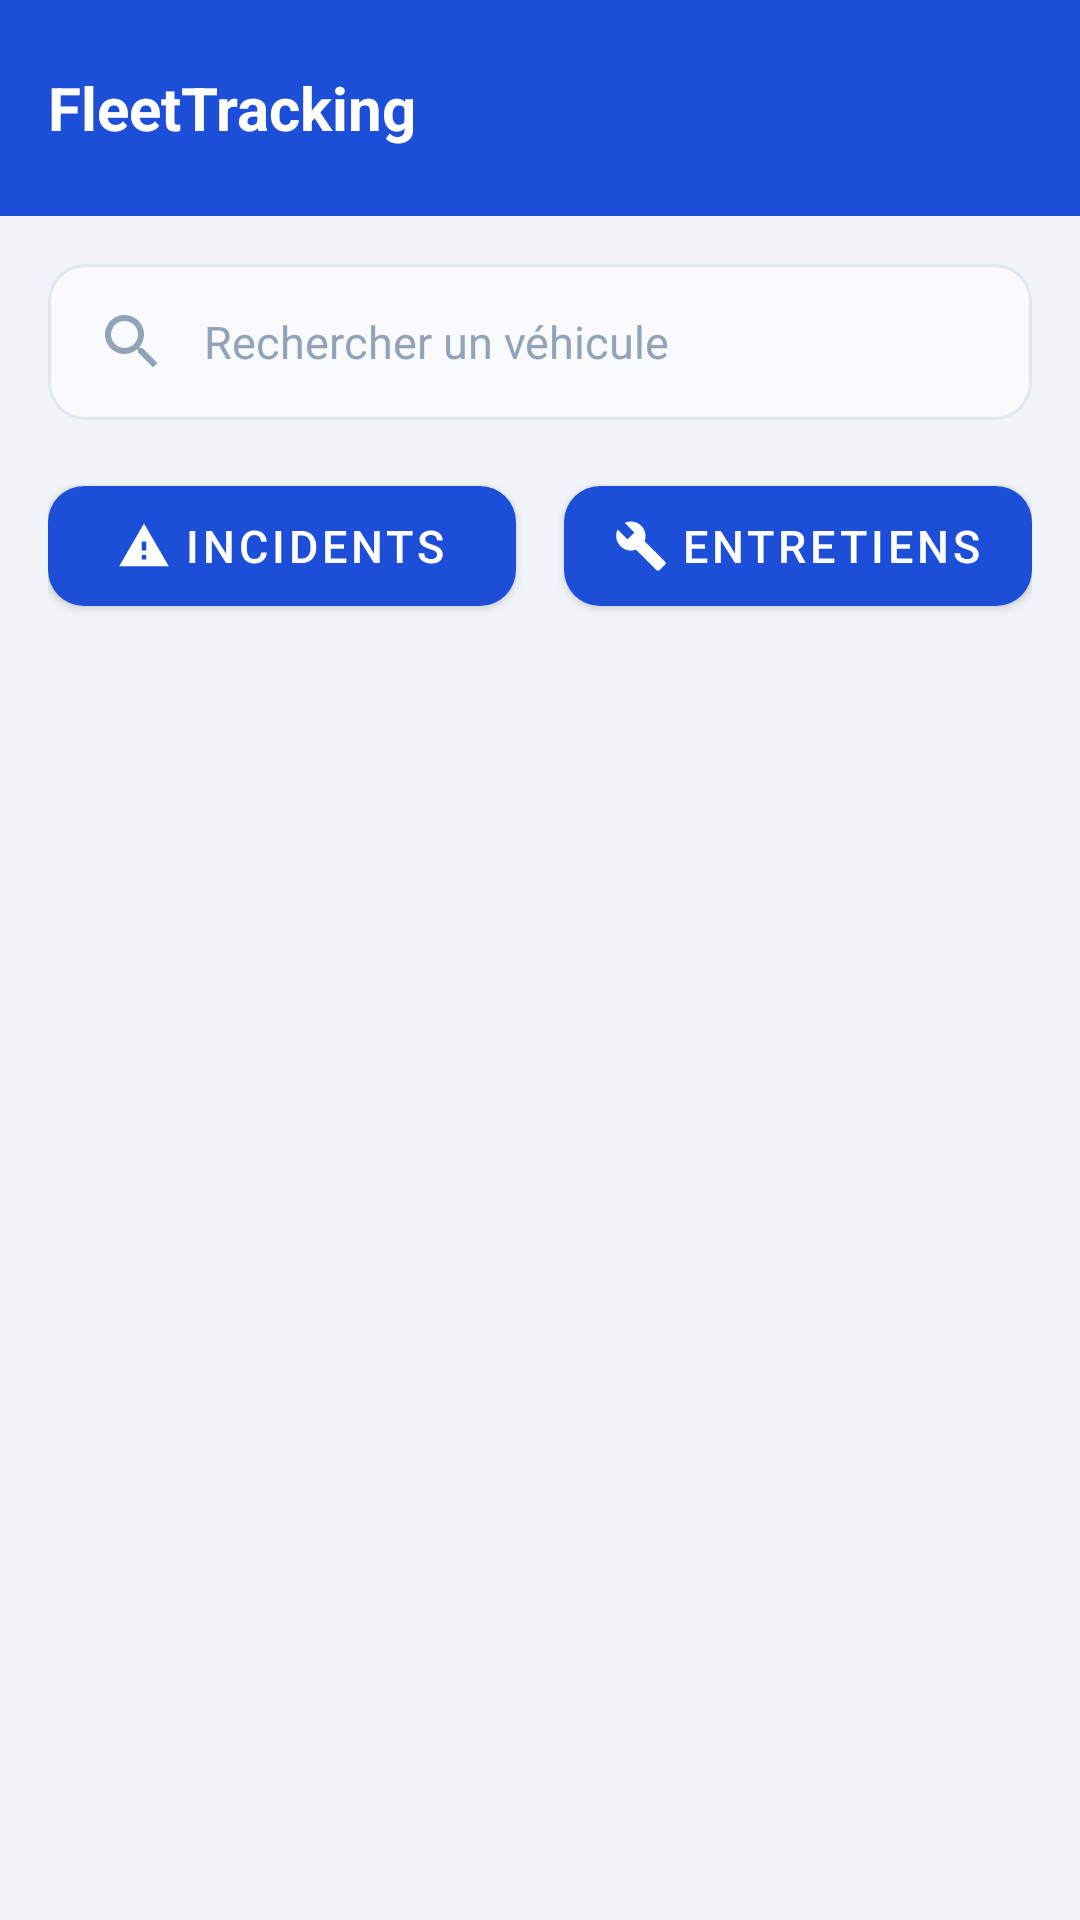

Screen size 1080x1920. Icon name, then its box in pixels as (x1, y1, x2, y2):
search: (105, 315, 157, 367)
